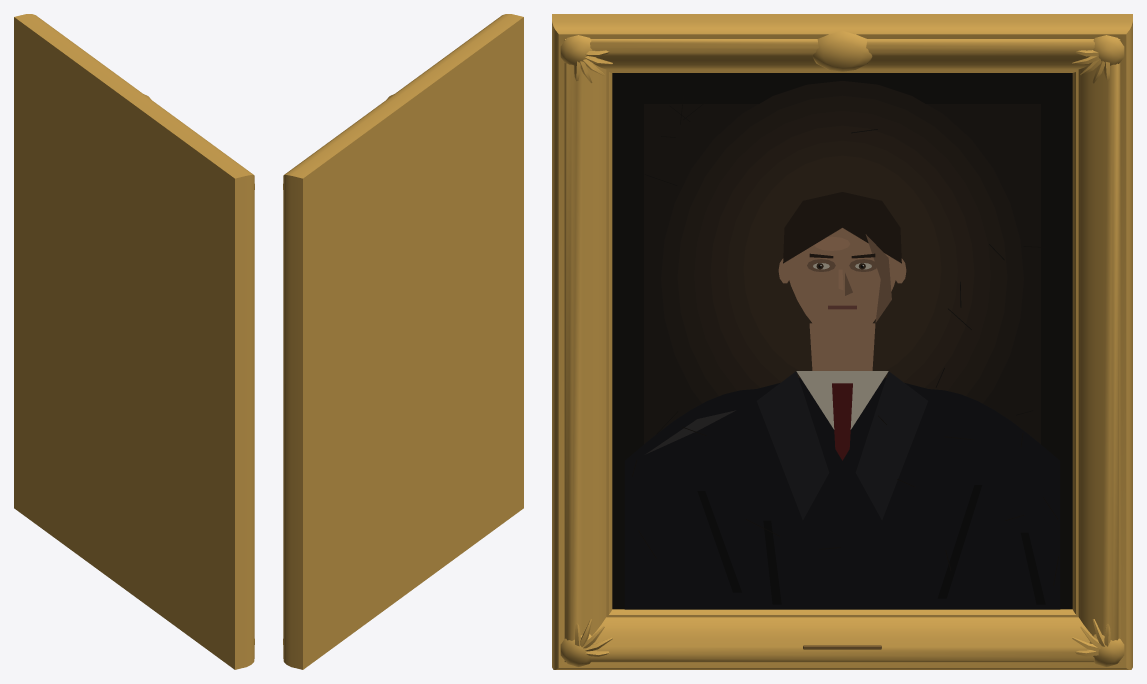
File: painting_portrait.glb
The picture shows the model from 3 angles, left to right: view 1: azimuth 30°, elevation 25°; view 2: azimuth 150°, elevation 25°; view 3: azimuth 270°, elevation 25°; orthographic projection. The views are drawn at different scales.
Visible parts, largest first — view 1: rahmen; view 2: rahmen; view 3: rahmen, rock, firnis, leinwand, schein5, schein0, schein1, schein2, schein3, revers, schein4, ornamente (+8 smaller).
Boxes of the visible parts, bbox=[...] form: rahmen: bbox=[14, 14, 254, 669]; rahmen: bbox=[283, 14, 523, 669]; rahmen: bbox=[552, 14, 1132, 669]; rock: bbox=[624, 377, 1060, 609]; firnis: bbox=[612, 73, 1072, 609]; leinwand: bbox=[644, 104, 1040, 443]; schein5: bbox=[743, 155, 941, 370]; schein0: bbox=[661, 81, 1023, 403]; schein1: bbox=[677, 95, 1007, 395]; schein2: bbox=[694, 110, 990, 390]; schein3: bbox=[710, 125, 974, 387]; revers: bbox=[757, 371, 927, 519]; schein4: bbox=[727, 140, 957, 381]; ornamente: bbox=[560, 30, 1124, 666].
Size of the model in its own units: 0.0652 by 1.08 by 0.88.
